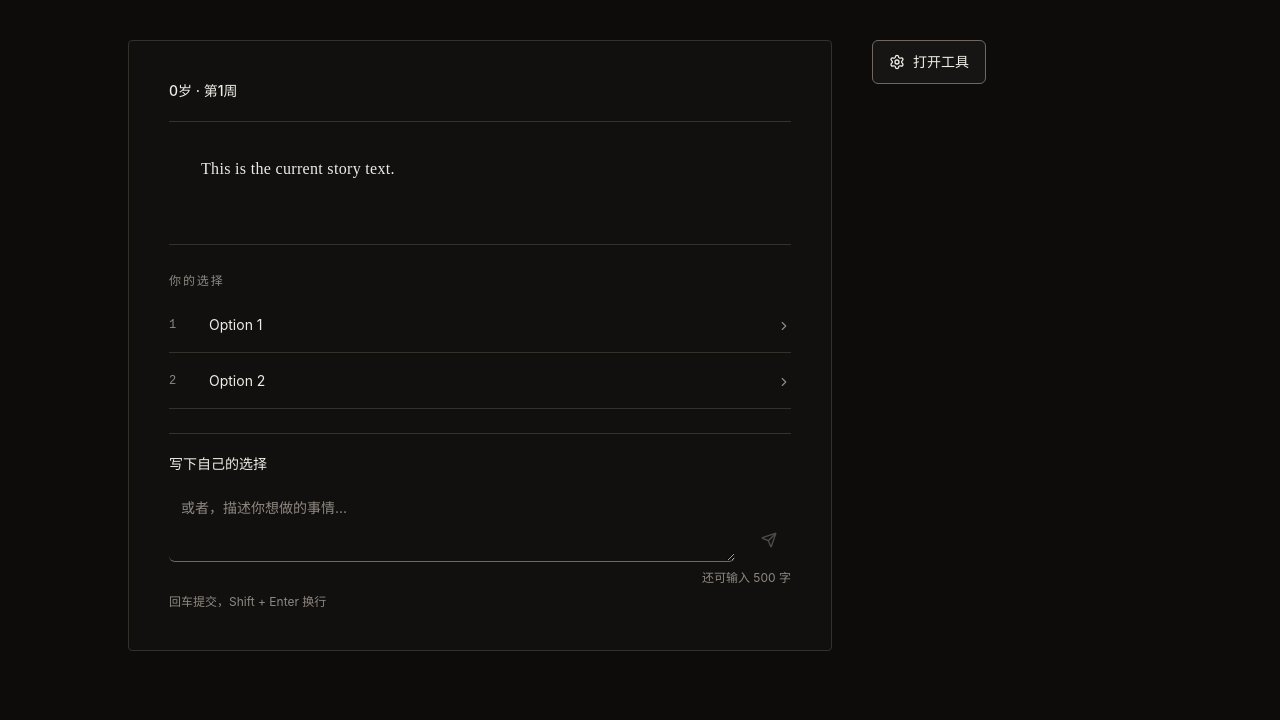
Test case: PlayPage › Tool actions › shows the tools save action as busy while saving
The image size is (1280, 720).
Click the button "打开工具" at (929, 62), box [872, 40, 986, 84]
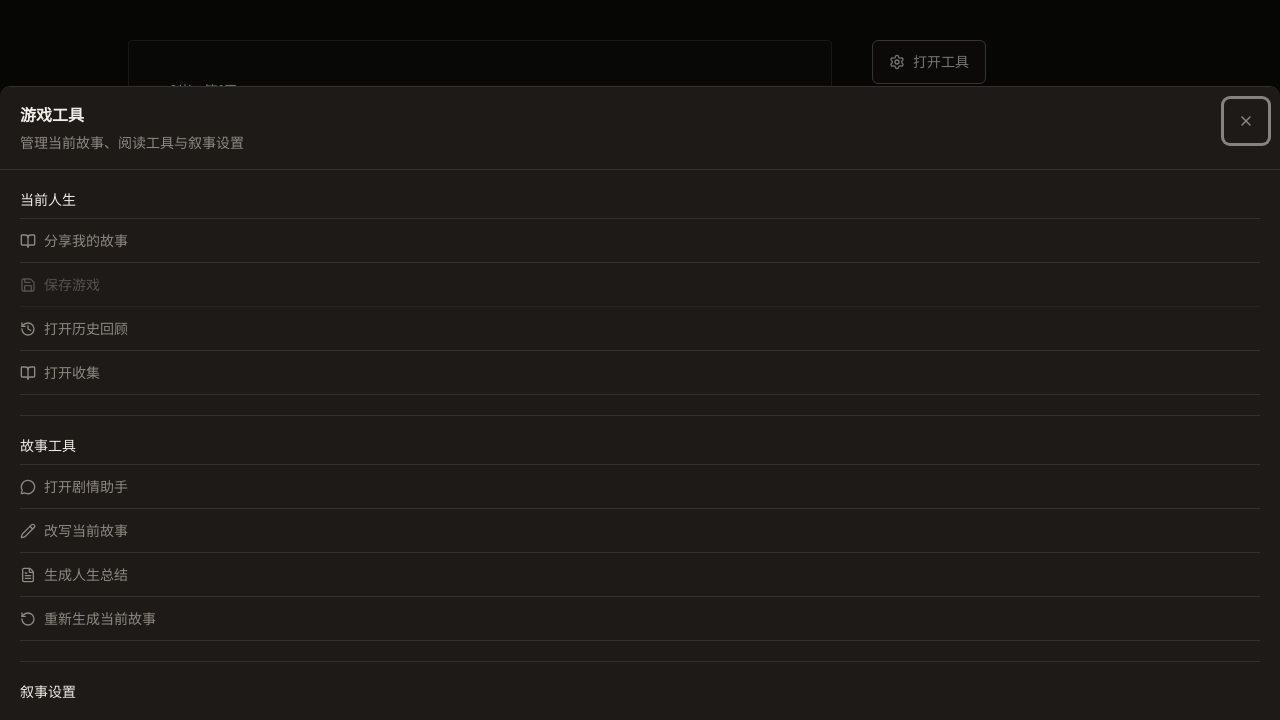
Expected: the button "保存游戏" is disabled, [20, 263, 1260, 307]
